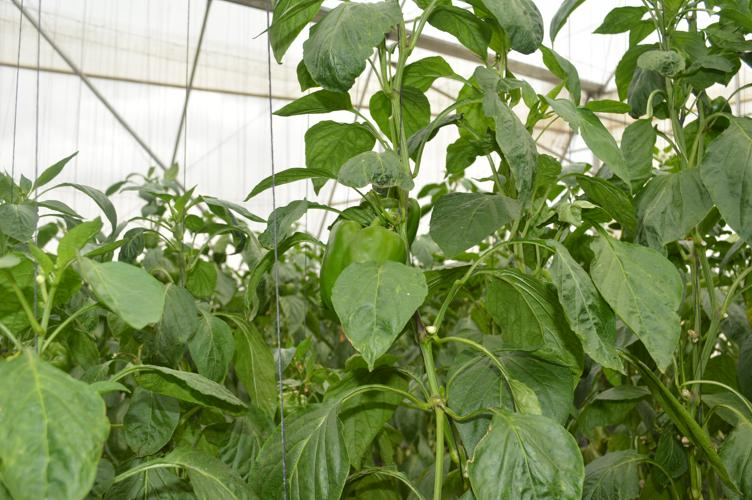BellPepper: (314, 218, 416, 329)
